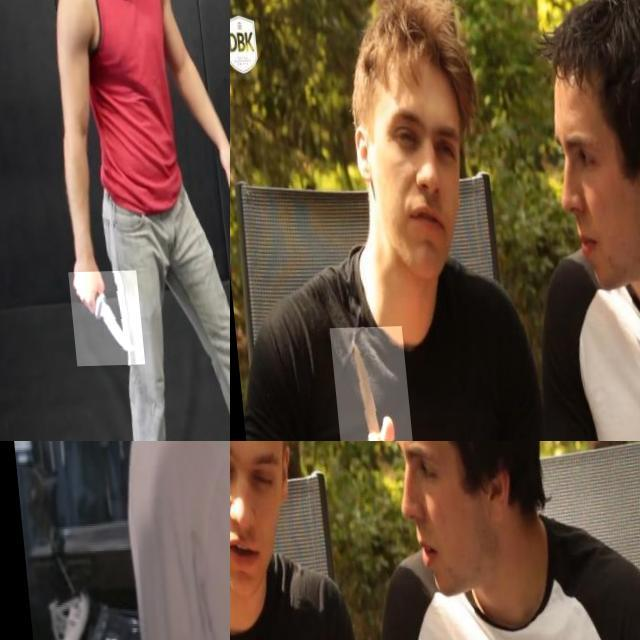-: (323, 327, 409, 441), (59, 272, 134, 368)
